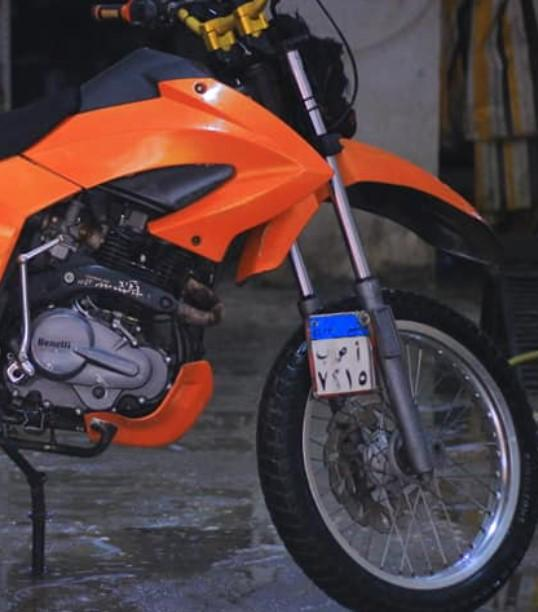License Plate: (305, 311, 382, 398)
